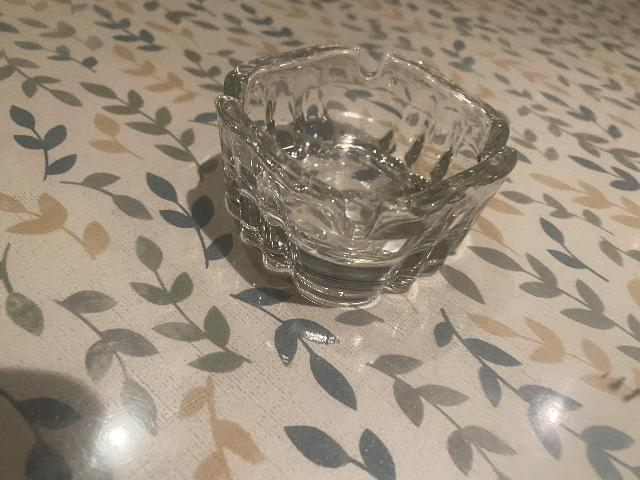Cam: (211, 40, 529, 305)
